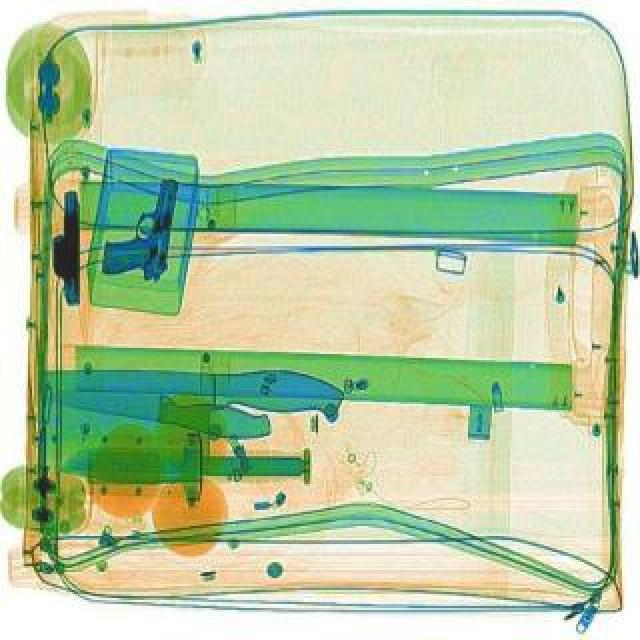gun: (102, 168, 184, 284), (52, 188, 86, 306)
knife: (40, 366, 348, 480), (48, 376, 278, 444), (68, 442, 308, 482)
